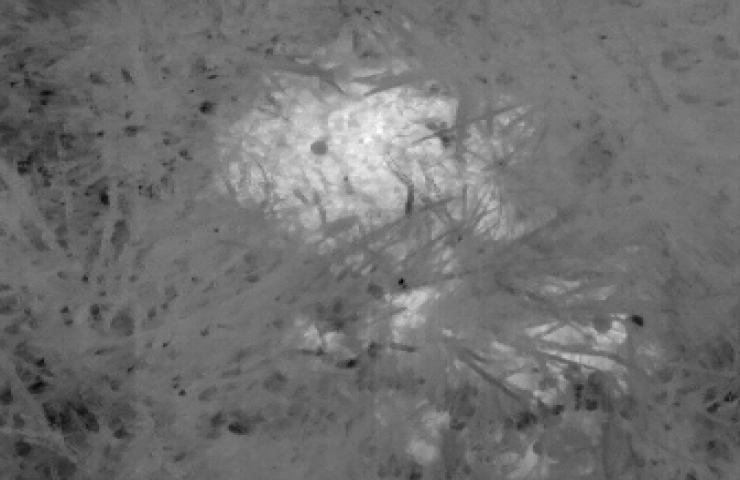landmines: (216, 39, 536, 258)
